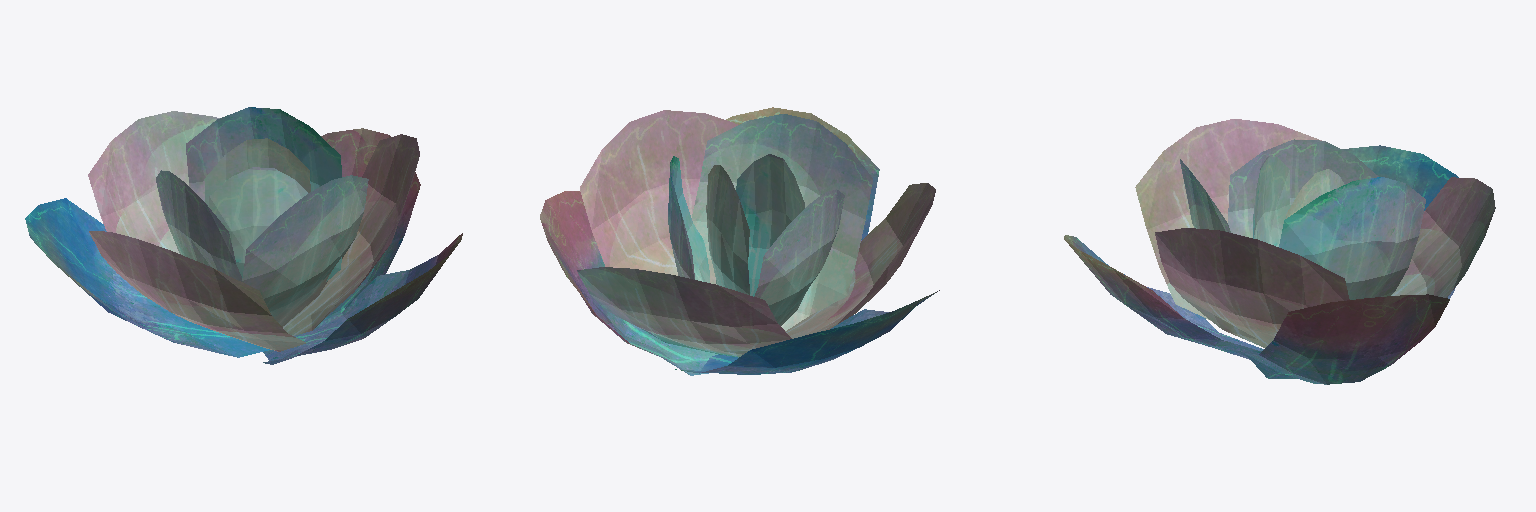
3 views of the same model, side by side, from view 1: azimuth 30°, elevation 25°; view 2: azimuth 150°, elevation 25°; view 3: azimuth 270°, elevation 25° (orthographic).
Parts seen in each view (by area): view 1: pPlane26_plant2_map_0; view 2: pPlane26_plant2_map_0; view 3: pPlane26_plant2_map_0.
Part boxes in pixels (left/top/right/bottom): pPlane26_plant2_map_0: left=25, top=107, right=462, bottom=364; pPlane26_plant2_map_0: left=540, top=107, right=939, bottom=375; pPlane26_plant2_map_0: left=1064, top=119, right=1495, bottom=384.
Size of the model in its own units: 2.19 by 1.23 by 2.3.
Materials: 1 (1 with a texture image).